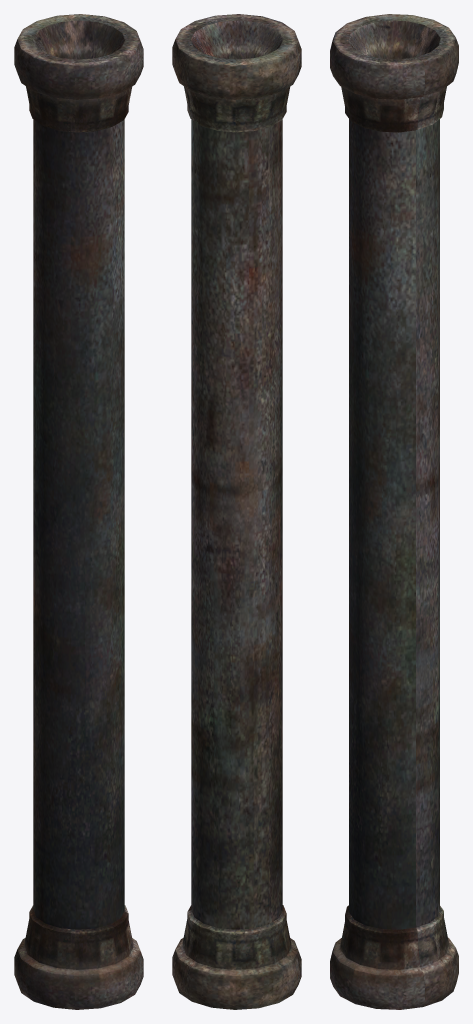
File: pipe_large_long_pplant.dae
3 views of the same model, side by side, from view 1: azimuth 30°, elevation 25°; view 2: azimuth 210°, elevation 25°; view 3: azimuth 330°, elevation 25° (orthographic).
Parts seen in each view (by area): view 1: Mesh; view 2: Mesh; view 3: Mesh.
Boxes of the visible parts, bbox=[...] form: Mesh: bbox=[14, 14, 143, 1009]; Mesh: bbox=[172, 14, 301, 1009]; Mesh: bbox=[330, 14, 458, 1009].
Bounding box in the file's own units: 0.4907 × 4 × 0.4907.
